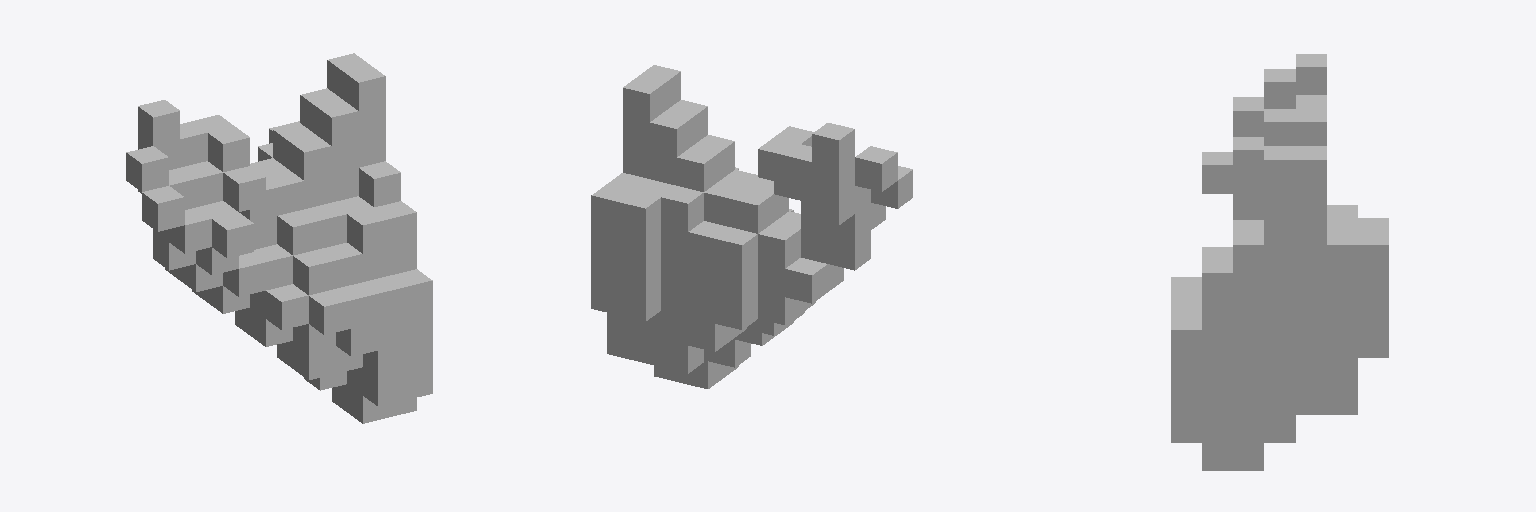
File: Plant3.obj
3 renders of one model, left to right at view 1: azimuth 30°, elevation 25°; view 2: azimuth 150°, elevation 25°; view 3: azimuth 270°, elevation 25°, orthographic.
Parts seen in each view (by area): view 1: object 1; view 2: object 1; view 3: object 1.
Boxes of the visible parts, x1,y1,x2,y2 form: object 1: [126, 53, 432, 423]; object 1: [591, 65, 912, 388]; object 1: [1171, 54, 1388, 470].
Bounding box in the file's own units: 0.9 × 1.1 × 0.7.